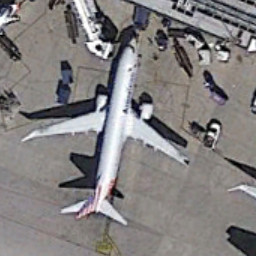Airplane: (14, 30, 195, 232)
